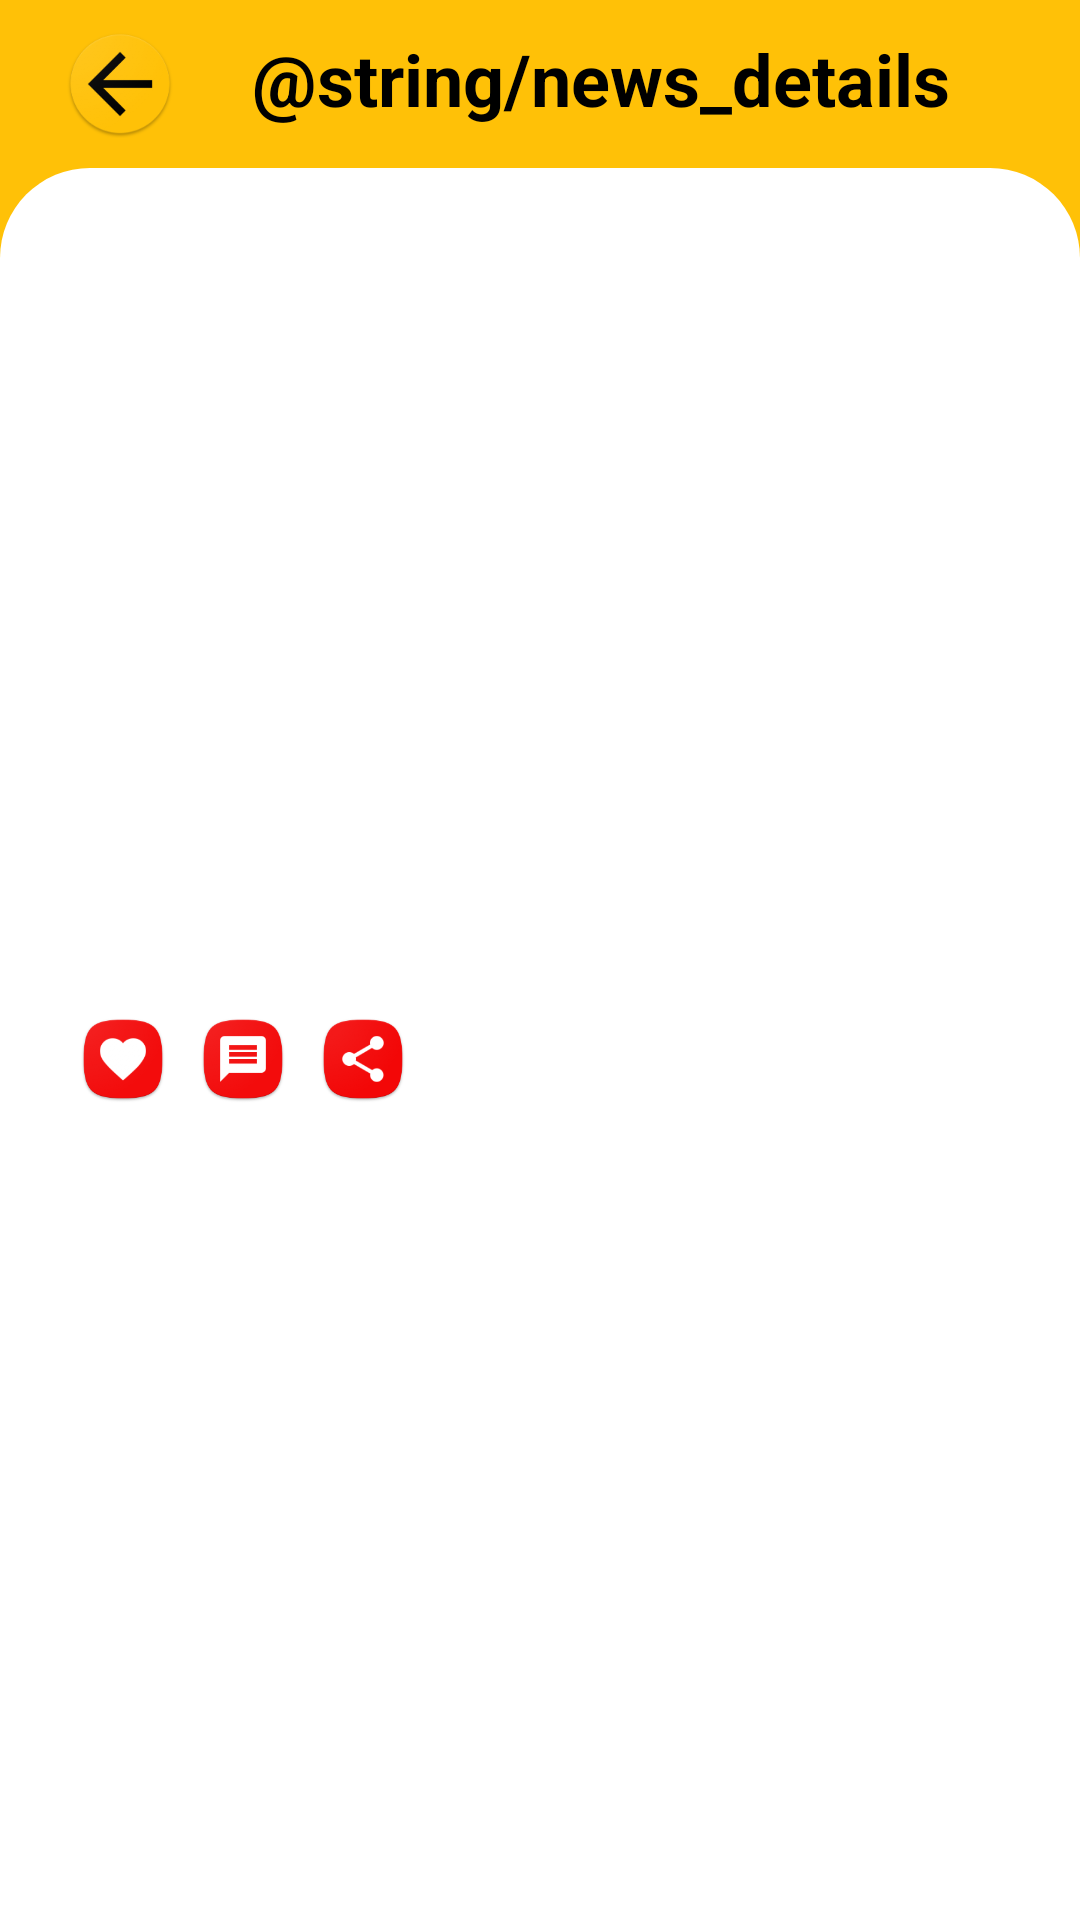

Where icons sit on this 1080 x 1920 app screen, as (x1, y1, x2, y2):
back: (70, 35, 170, 136)
comment: (203, 1019, 283, 1100)
like: (83, 1019, 163, 1100)
share: (323, 1019, 403, 1100)
